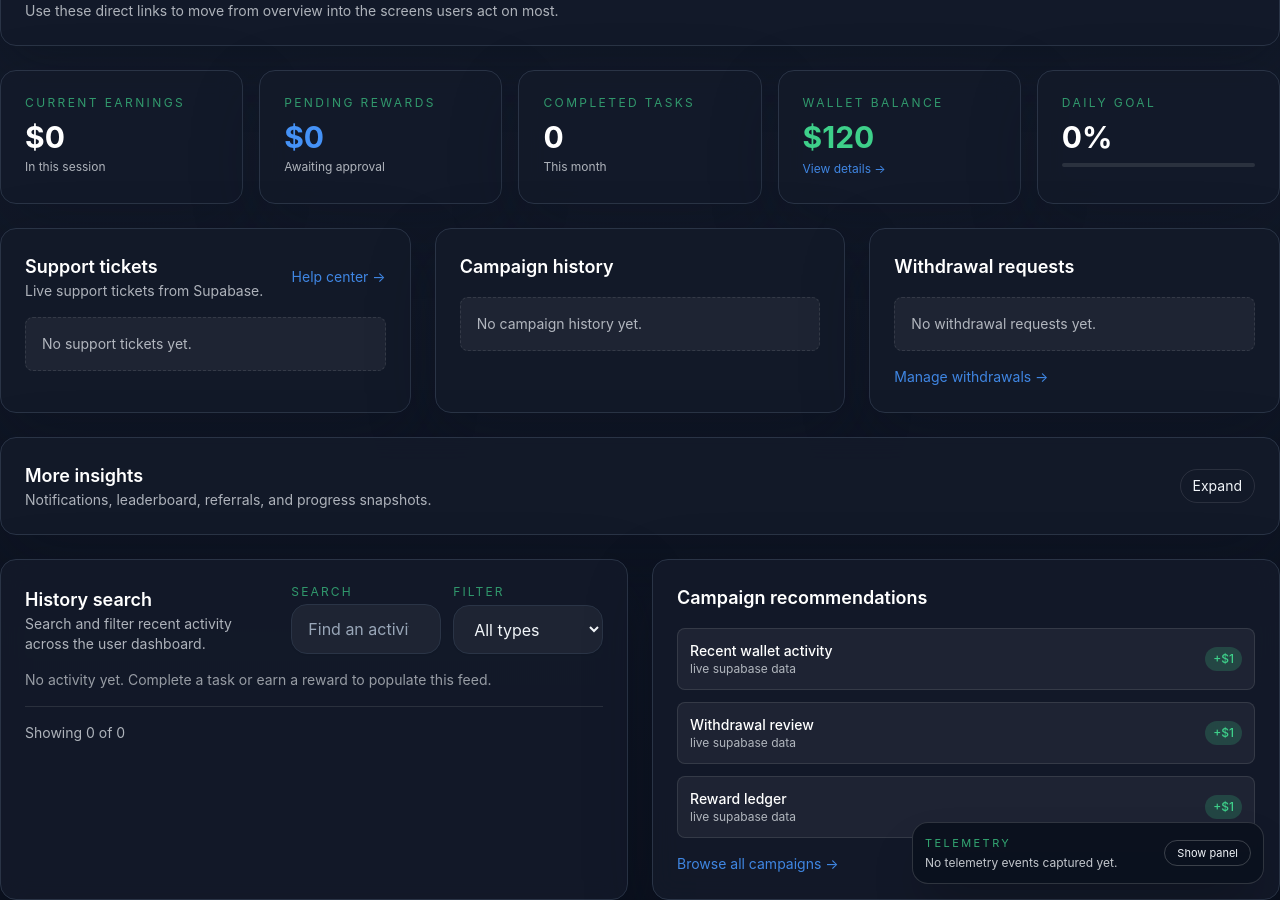
Scenario: DashboardPage › renders the dashboard even when one data source fails
(page scrolled)
Expected: the heading "More insights" is shown, x1=25 y1=465 x2=143 y2=486
Click the button "Expand" at (1217, 486), box x1=1180 y1=469 x2=1255 y2=503
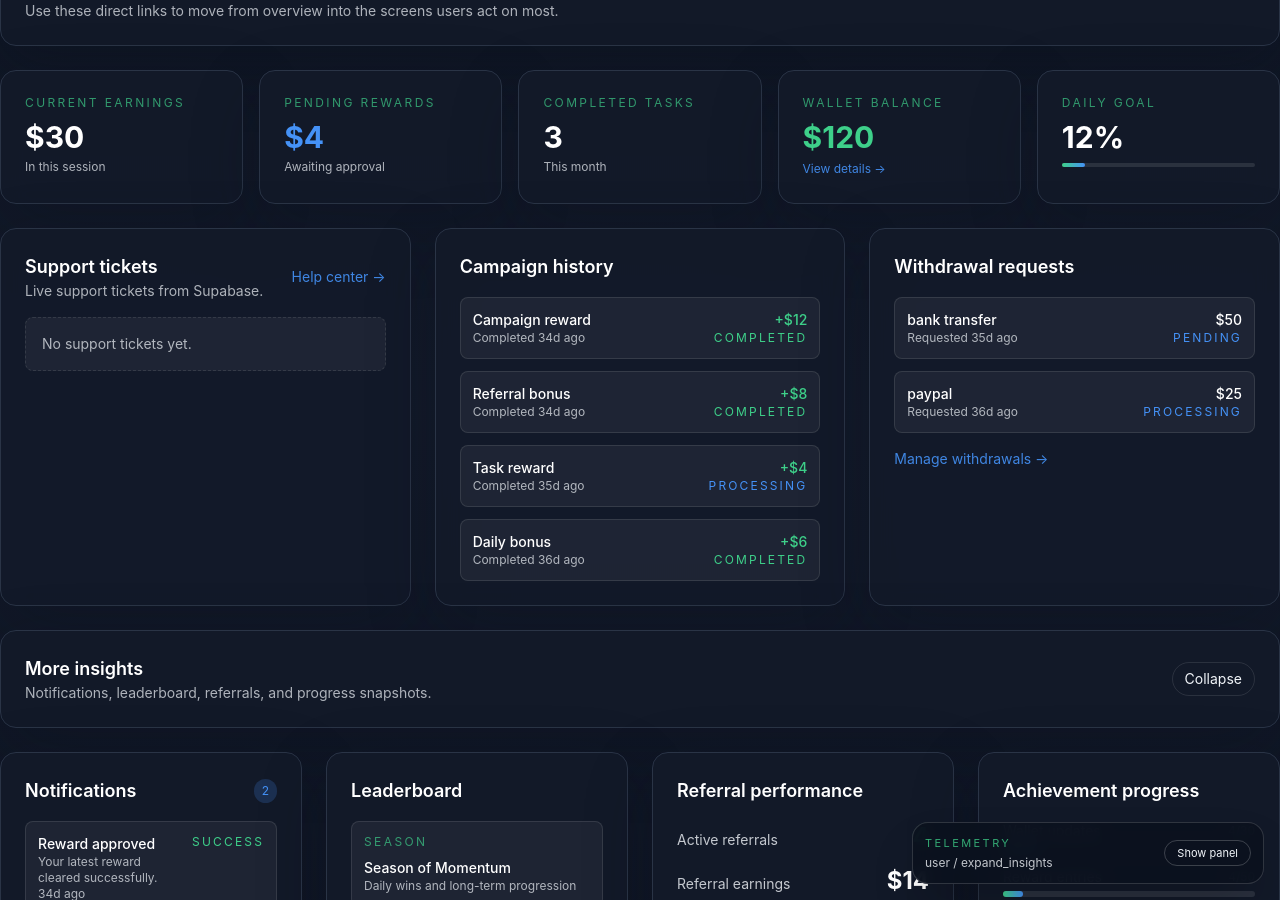
Expected: the text "No support tickets yet." is shown, x1=25 y1=317 x2=386 y2=371
Result: the heading "Leaderboard" is shown at x1=351 y1=780 x2=462 y2=801
